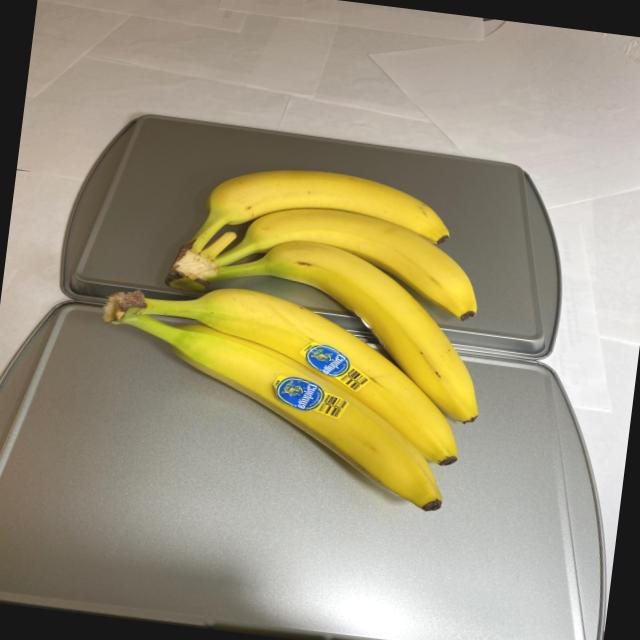banana: (76, 140, 511, 519)
